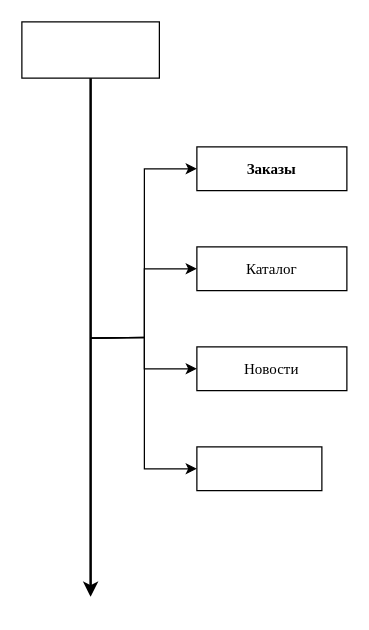
Some shapes in this 369 by 630 pixel diagram are drawn without their labels. Here are the shapes that lost their labels. From the top down, the centre of each, then its label:
At pixel 90 49: "Главная".
At pixel 259 468: "Выход".
